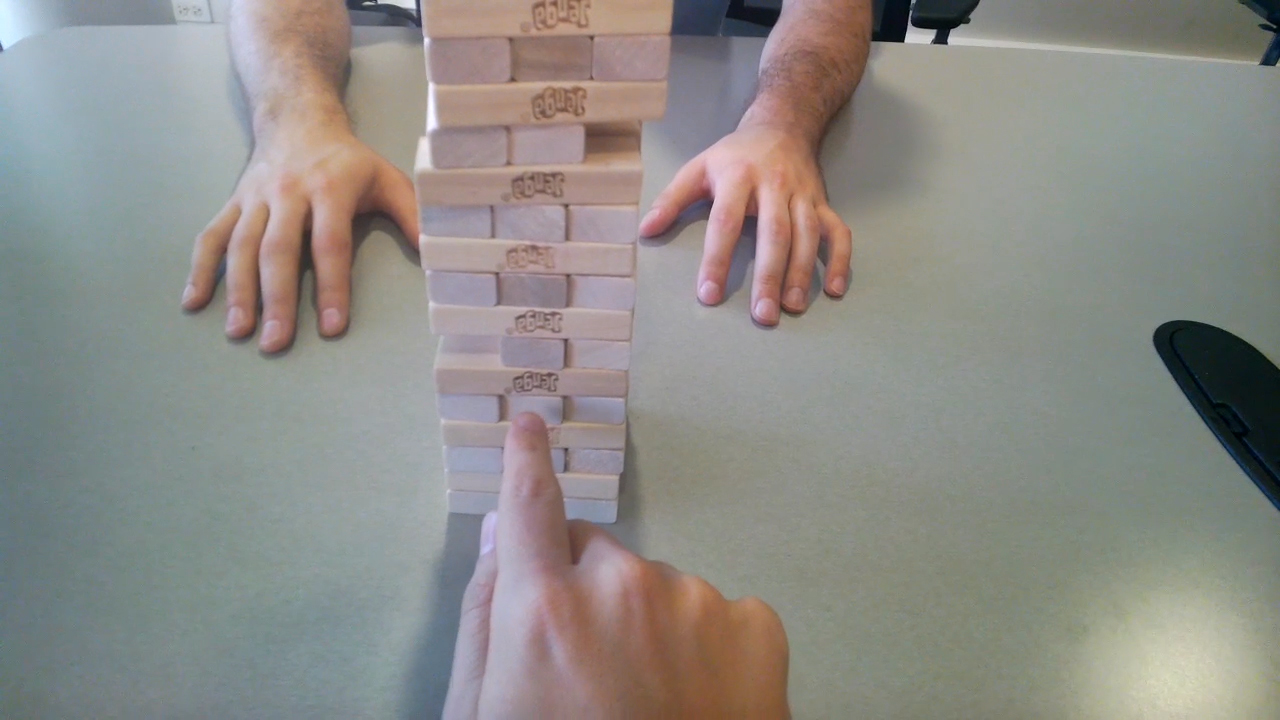hand: (438, 412, 787, 716), (184, 122, 430, 343), (649, 127, 842, 312)
